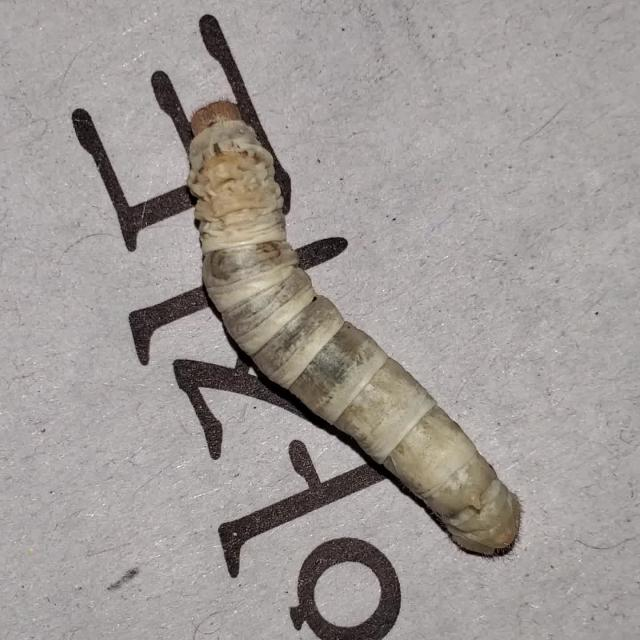Grasserie: (167, 82, 530, 562)
